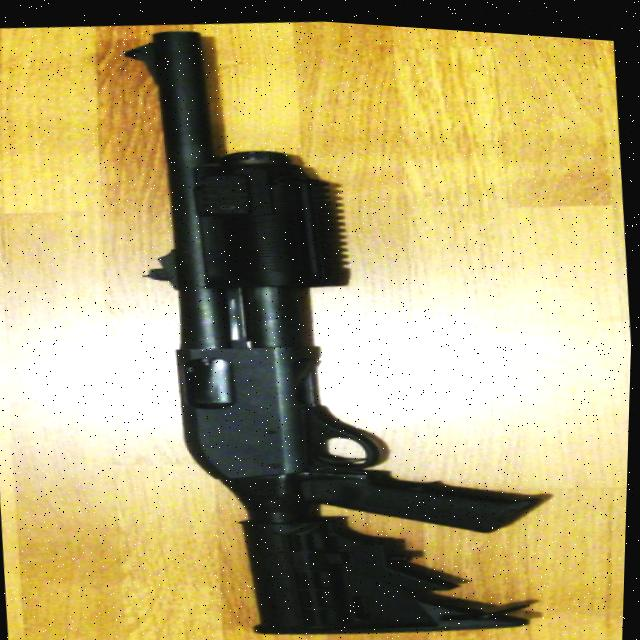firearm: (93, 6, 590, 640)
